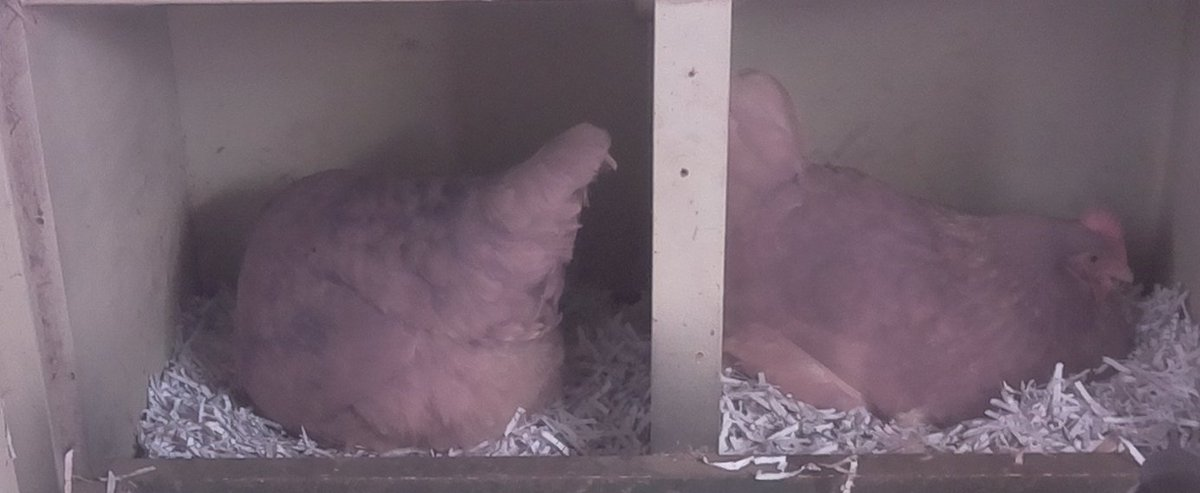hen: (730, 69, 1144, 431), (230, 121, 621, 450)
